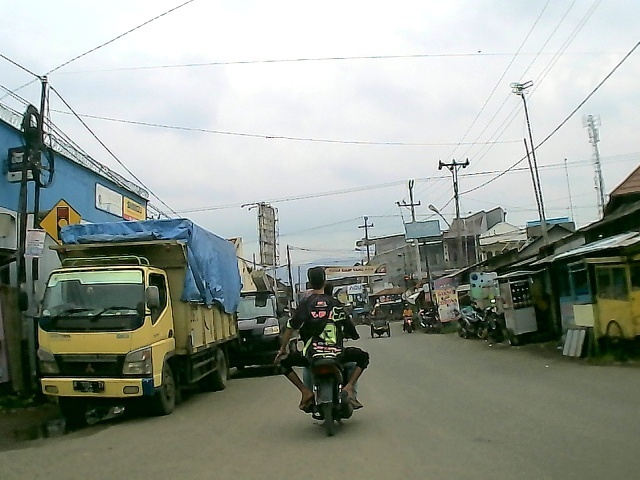Lampu isyarat: (38, 198, 83, 245)
